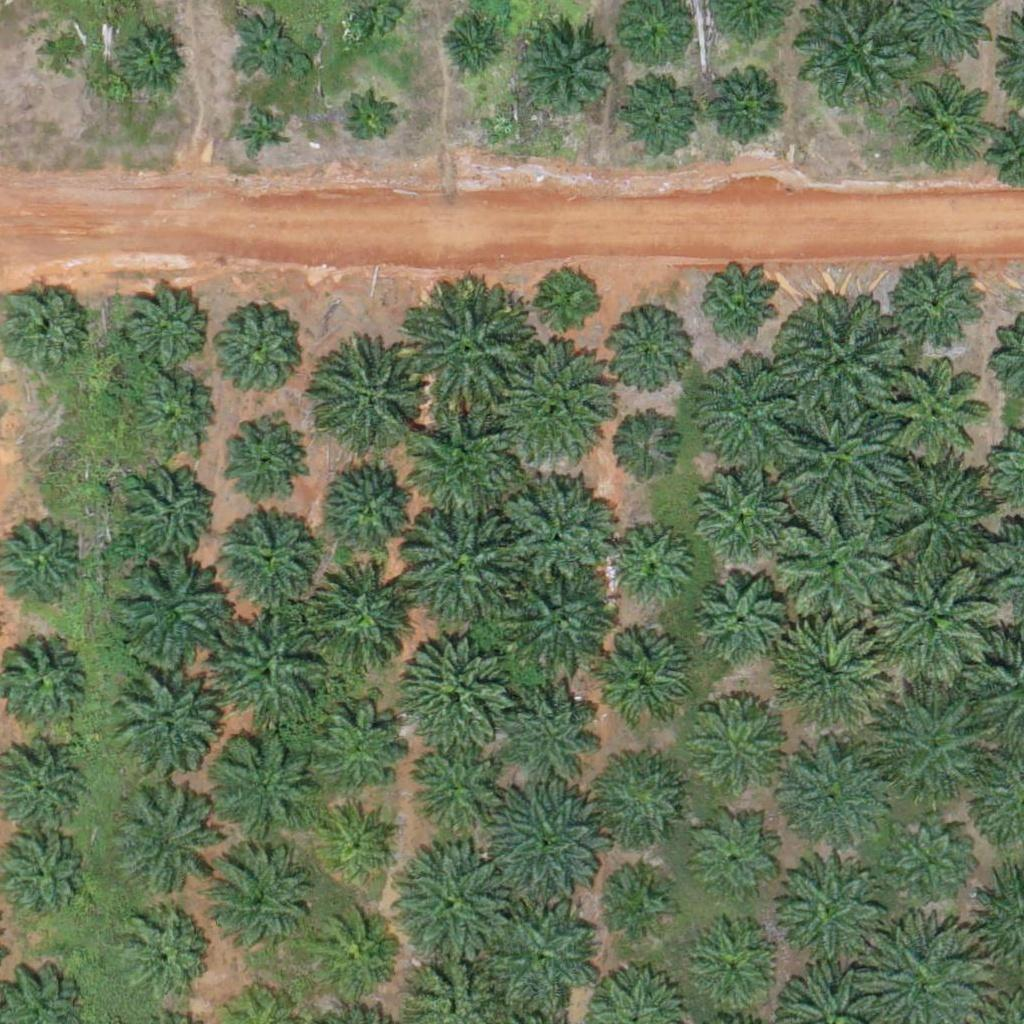Kelapa_Sawit: (877, 558, 1002, 684), (776, 298, 901, 424), (406, 293, 531, 419), (780, 392, 905, 517), (770, 620, 883, 734), (506, 348, 619, 462), (302, 561, 415, 675), (880, 691, 993, 804), (781, 505, 894, 618), (774, 854, 887, 967), (695, 353, 808, 466), (488, 783, 601, 896), (409, 411, 522, 524), (400, 512, 513, 625), (397, 632, 510, 745), (295, 692, 408, 805), (405, 850, 517, 964), (207, 726, 319, 840), (204, 842, 316, 956), (113, 558, 225, 672), (882, 458, 994, 571), (772, 743, 884, 856), (487, 901, 599, 1014), (506, 563, 618, 676), (501, 476, 613, 589), (212, 617, 324, 730), (889, 367, 989, 468), (887, 256, 987, 357), (504, 670, 604, 771), (324, 454, 424, 555), (208, 298, 308, 399), (108, 790, 208, 891), (513, 21, 613, 122), (593, 632, 693, 732), (319, 352, 419, 452), (221, 508, 321, 608), (112, 677, 212, 777), (117, 461, 217, 561), (603, 310, 691, 399), (314, 800, 402, 888), (690, 922, 778, 1010), (694, 468, 782, 556), (604, 522, 692, 610), (403, 746, 491, 834), (306, 912, 394, 1000), (215, 414, 303, 502), (117, 908, 205, 996), (897, 78, 985, 166), (695, 264, 782, 352), (697, 698, 784, 786), (696, 572, 783, 660), (598, 753, 685, 841), (135, 369, 222, 457), (123, 286, 210, 374), (605, 415, 680, 491), (700, 824, 775, 900), (710, 75, 785, 151), (621, 79, 696, 155), (113, 23, 188, 98), (229, 5, 304, 80), (894, 814, 969, 889), (618, 2, 681, 65), (442, 20, 505, 83), (539, 267, 602, 330), (607, 872, 670, 935), (343, 97, 393, 148), (236, 106, 286, 157), (38, 28, 88, 78)
